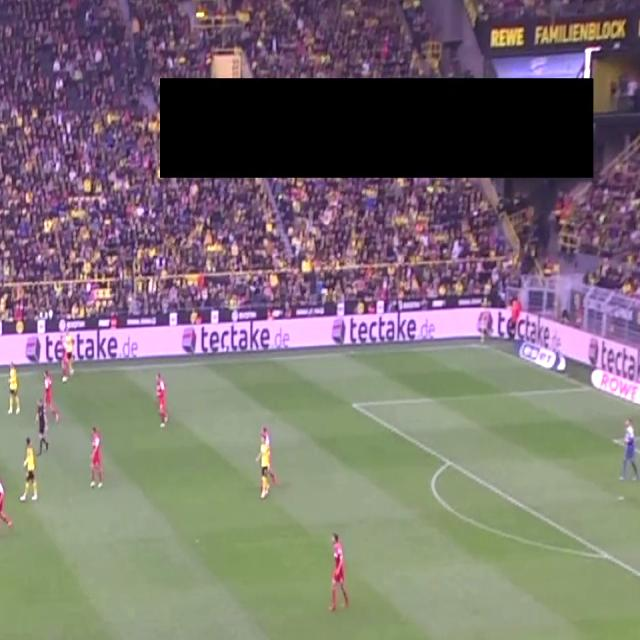goalkeeper: (618, 408, 640, 503)
referee: (32, 392, 54, 460)
soccer-player: (326, 524, 354, 622), (84, 418, 105, 495), (19, 436, 39, 512), (255, 430, 272, 509), (0, 461, 15, 544), (151, 366, 169, 433), (41, 369, 60, 427), (5, 355, 22, 419)
